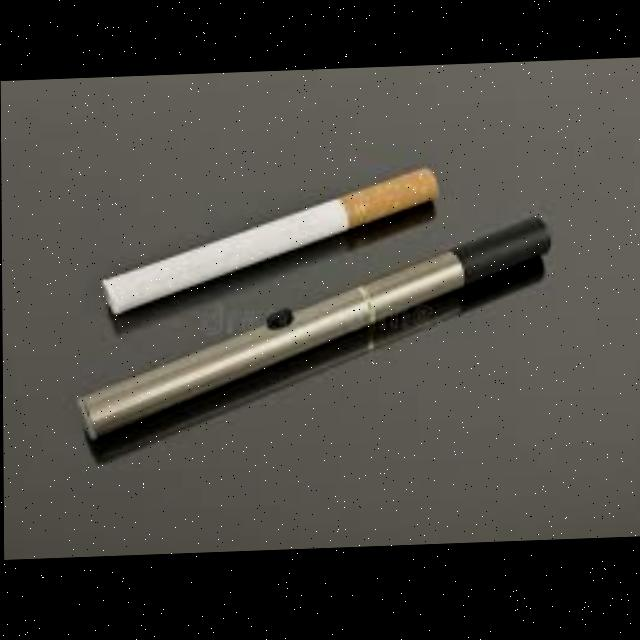cigarette: (102, 169, 440, 316)
vape: (73, 215, 560, 443)
